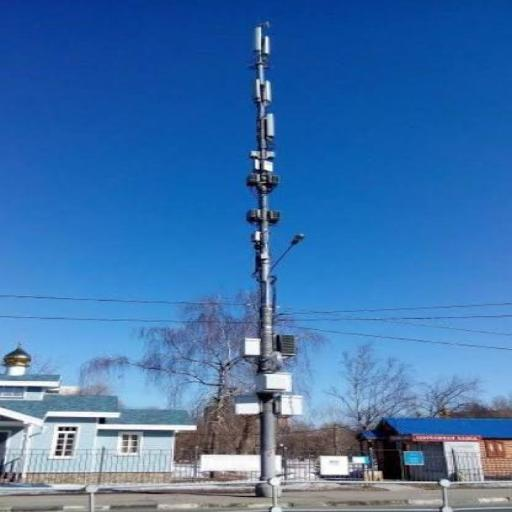odn_pole: (235, 20, 305, 498)
